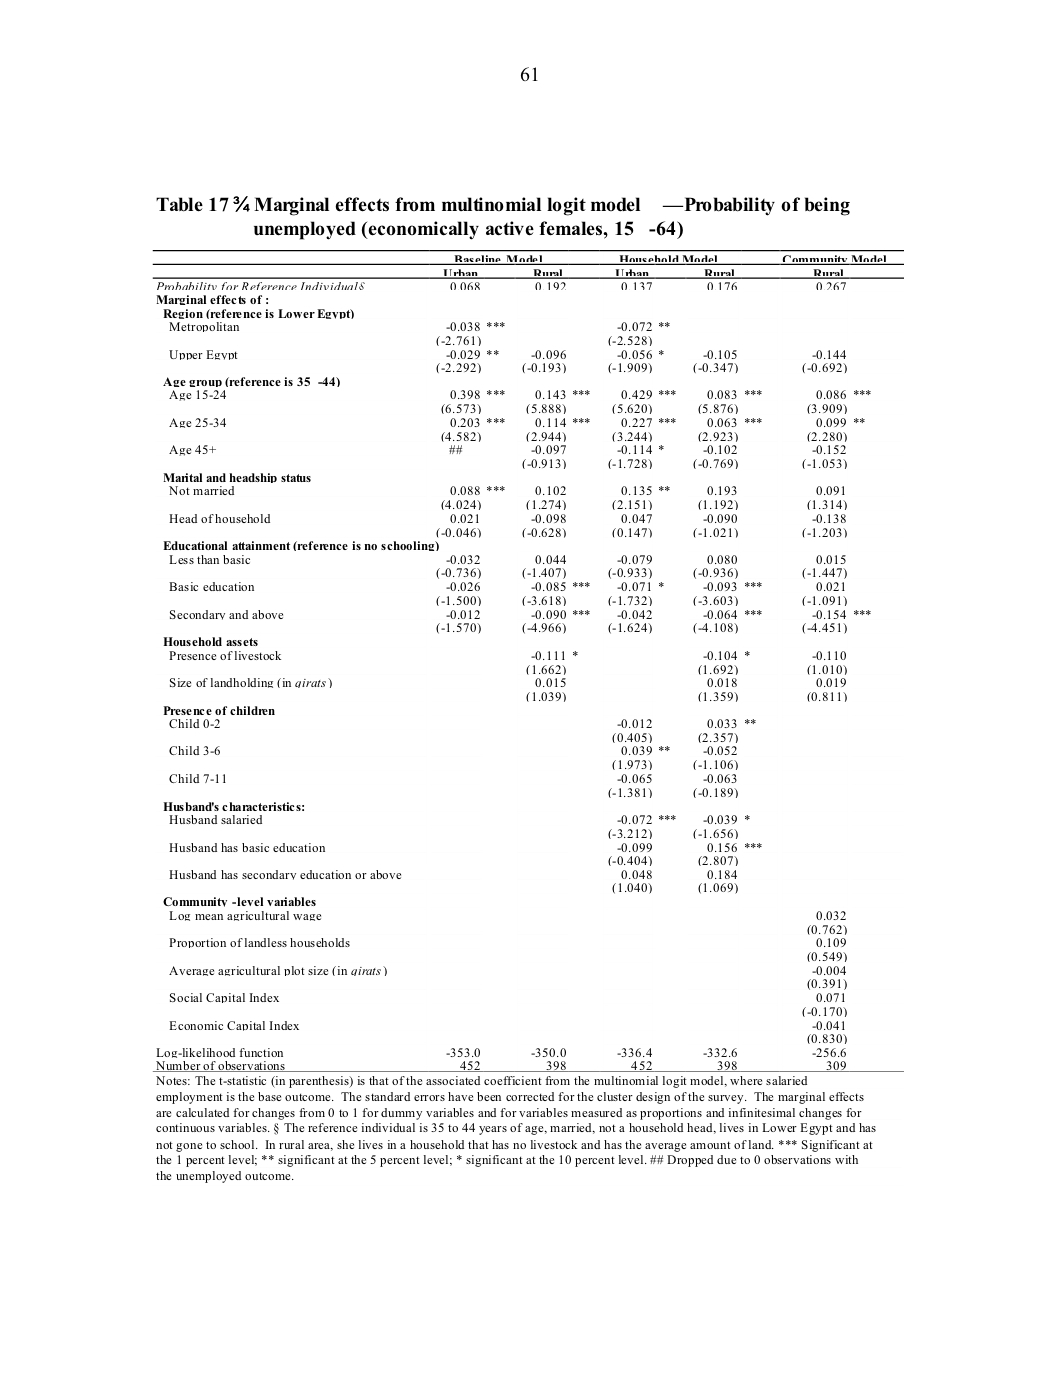Table: (152, 250, 903, 1071)
